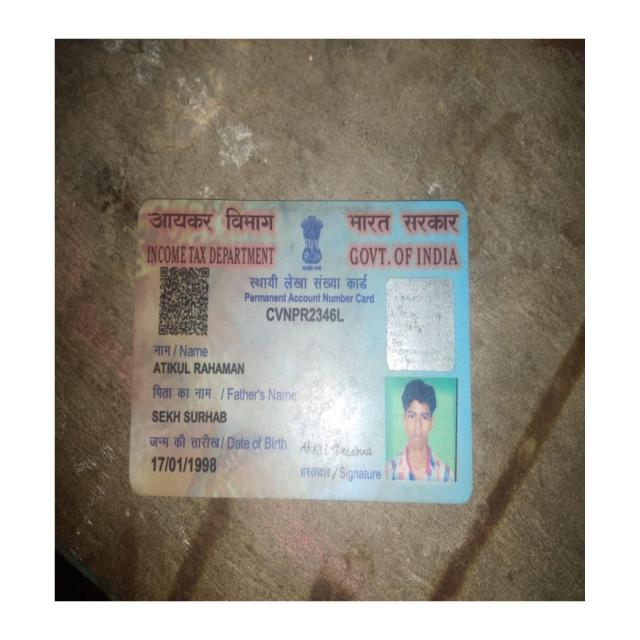pan_card: (133, 201, 470, 500)
